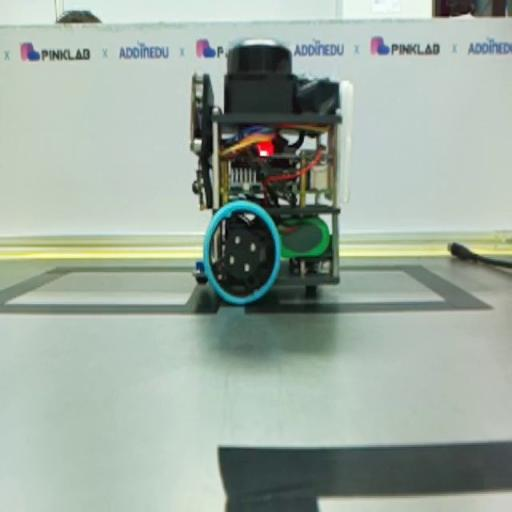pinky_63: (190, 38, 353, 305)
